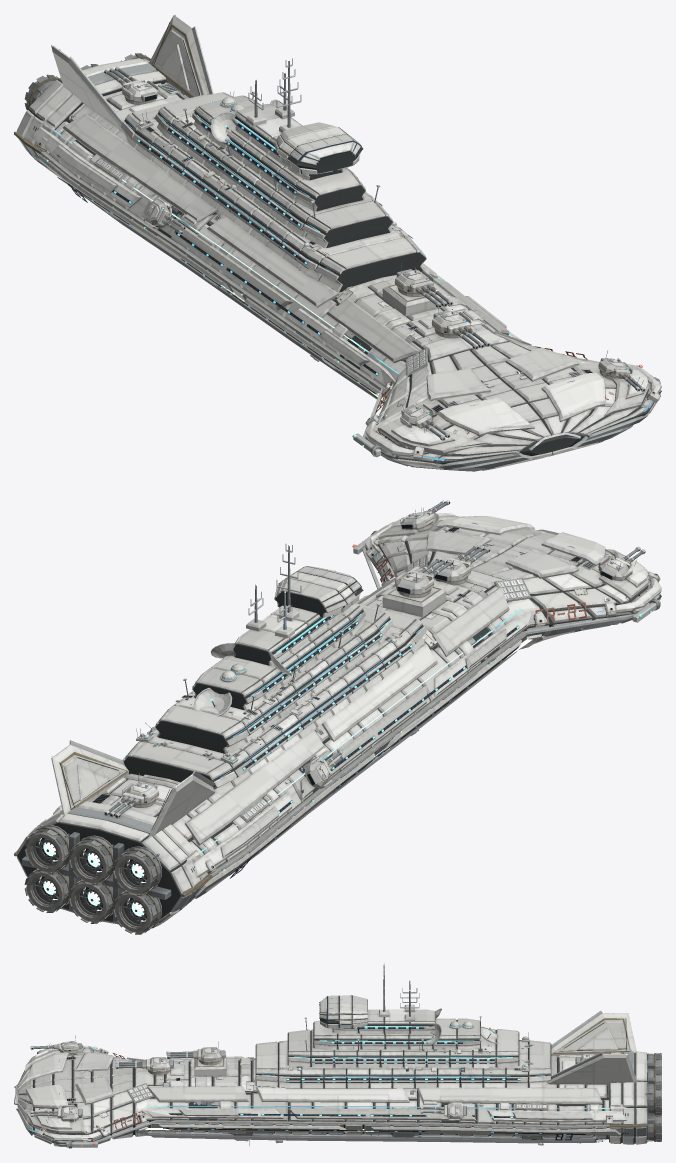
File: sovereign_cruiser.glb
The picture shows the model from 3 angles, top to bottom: view 1: azimuth 30°, elevation 25°; view 2: azimuth 150°, elevation 25°; view 3: azimuth 270°, elevation 25°; orthographic projection. The views are drawn at different scales.
Visible parts, largest first — view 1: sovereign_cruiser_hull, sovereign_cruiser_glass; view 2: sovereign_cruiser_hull, sovereign_cruiser_plasma, sovereign_cruiser_glass; view 3: sovereign_cruiser_hull, sovereign_cruiser_glass.
Part boxes in pixels (x1,y1,x2,y2): sovereign_cruiser_hull: (14, 14, 661, 471); sovereign_cruiser_glass: (57, 123, 374, 392); sovereign_cruiser_hull: (14, 500, 661, 934); sovereign_cruiser_plasma: (39, 838, 145, 921); sovereign_cruiser_glass: (240, 566, 515, 866); sovereign_cruiser_hull: (14, 963, 661, 1148); sovereign_cruiser_glass: (168, 996, 584, 1134).
Size of the model in its own units: 72.16 by 61.63 by 202.
Materials: 3 (1 with a texture image).
